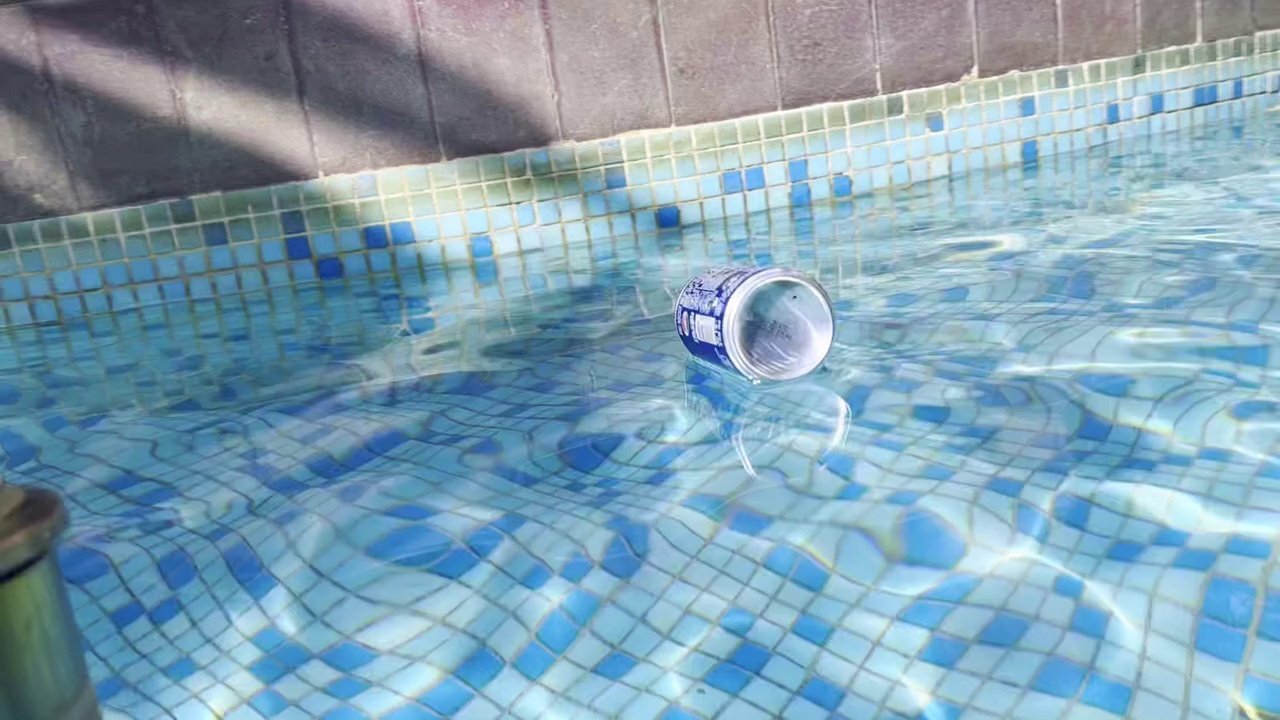debris: (654, 256, 842, 389)
